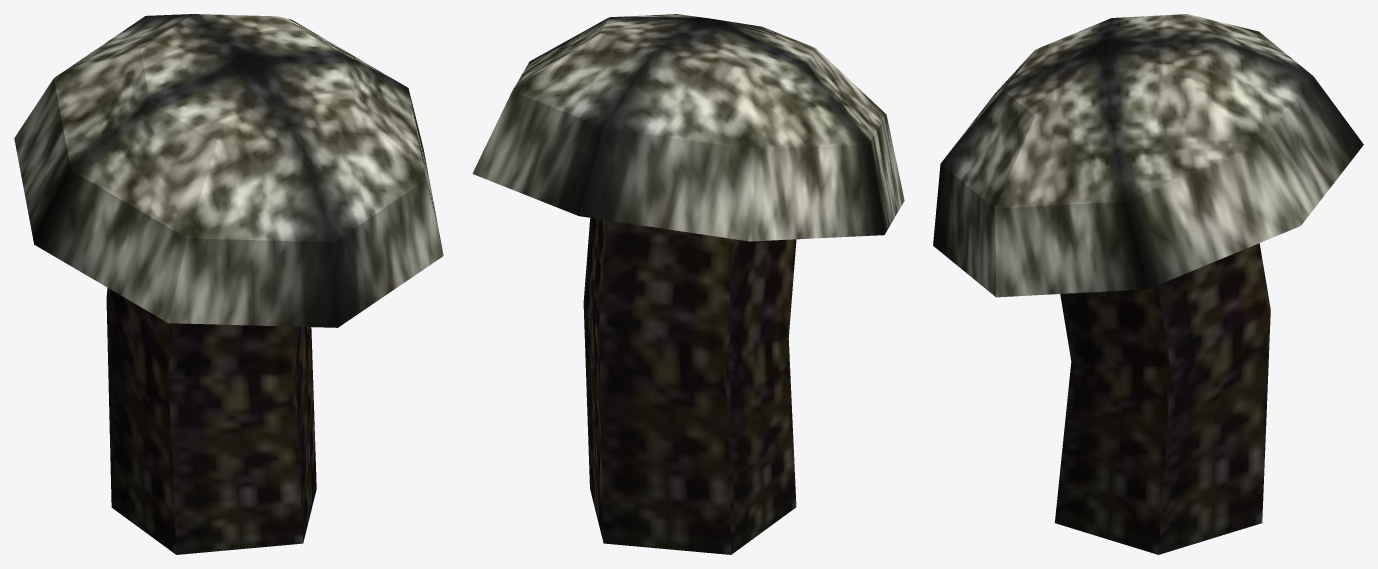
File: ITFO_PLANTS_MUSHROOM_01.glb
The picture shows the model from 3 angles, left to right: view 1: azimuth 30°, elevation 25°; view 2: azimuth 150°, elevation 25°; view 3: azimuth 270°, elevation 25°; orthographic projection.
Parts seen in each view (by area): view 1: ITFO_PLANTS_MUSHROOM_01; view 2: ITFO_PLANTS_MUSHROOM_01; view 3: ITFO_PLANTS_MUSHROOM_01.
Part boxes in pixels (x1,y1,x2,y2): ITFO_PLANTS_MUSHROOM_01: (14, 14, 443, 554); ITFO_PLANTS_MUSHROOM_01: (472, 14, 904, 554); ITFO_PLANTS_MUSHROOM_01: (933, 14, 1363, 554).
Bounding box in the file's own units: 0.2729 × 0.3182 × 0.2642.
Materials: 1 (1 with a texture image).
